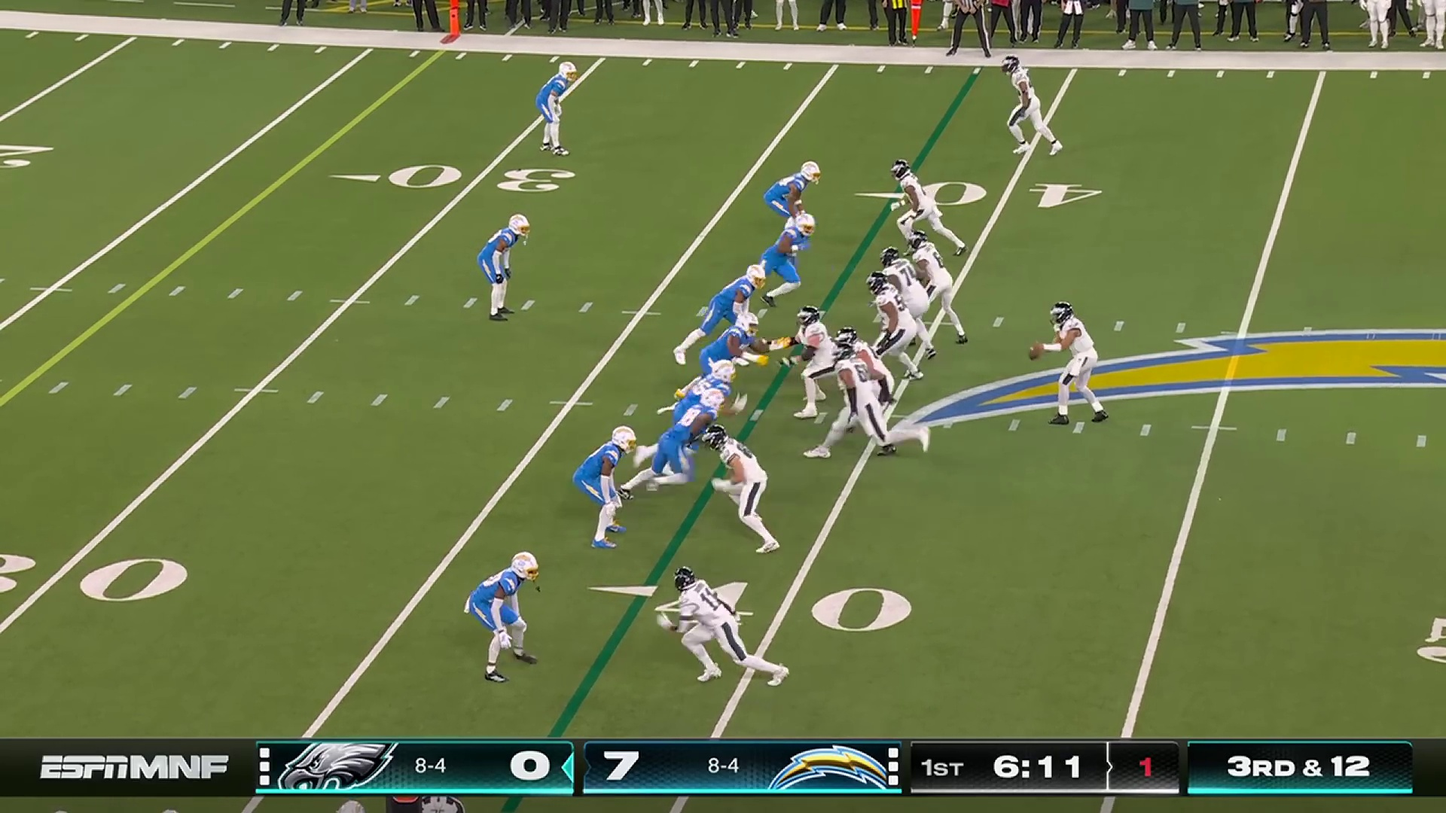ball: (1025, 342, 1044, 365)
player: (660, 570, 772, 688), (1036, 297, 1109, 433), (468, 552, 539, 674), (706, 425, 775, 537), (887, 154, 962, 249), (579, 424, 636, 547), (997, 52, 1065, 155), (474, 215, 535, 322), (651, 390, 717, 484), (882, 255, 940, 357), (915, 241, 970, 341), (793, 308, 842, 419), (840, 325, 893, 423), (833, 356, 887, 447), (764, 211, 816, 303), (866, 273, 906, 389), (536, 61, 579, 159), (670, 358, 734, 422), (765, 157, 823, 223), (707, 266, 761, 329), (713, 314, 756, 363)
